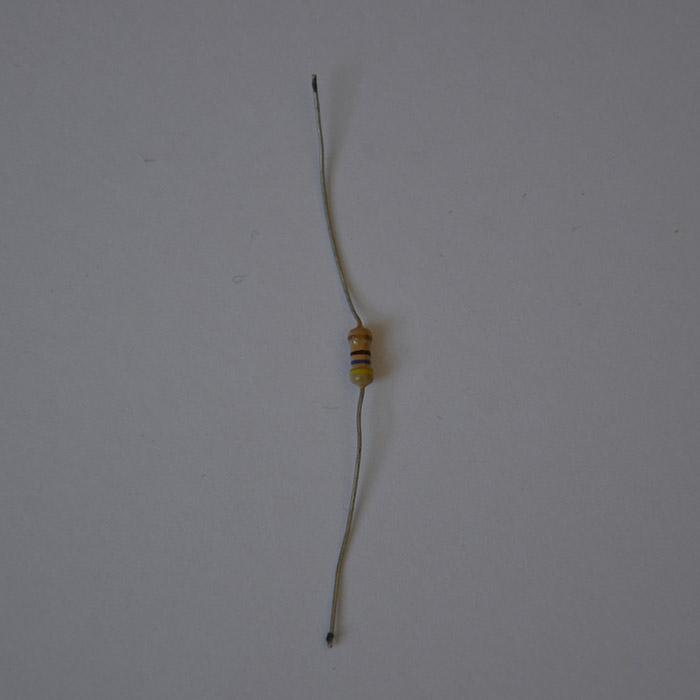resistor: (347, 324, 374, 388)
